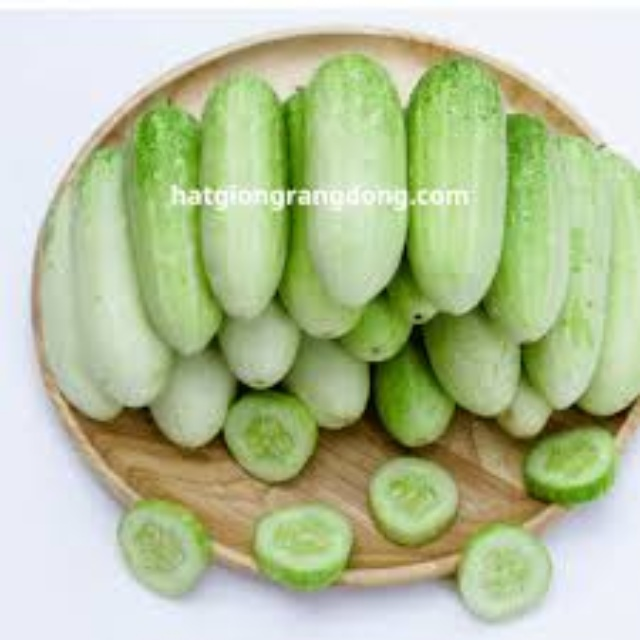dua_leo: (298, 50, 411, 312), (195, 70, 289, 320)
